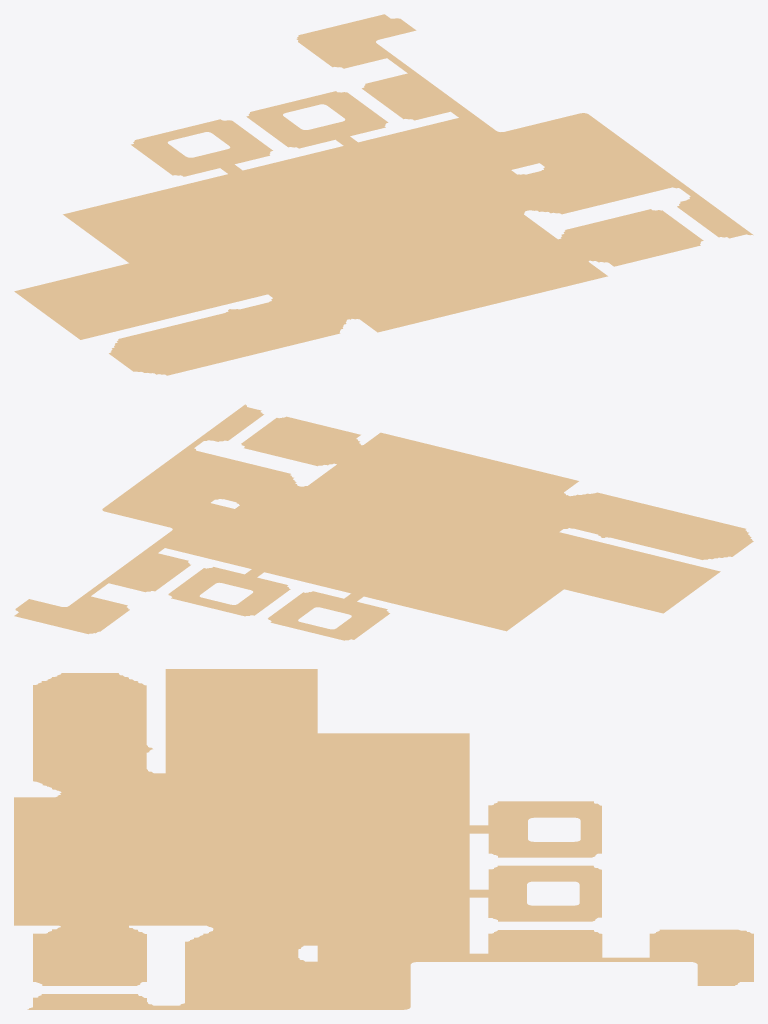
The model's file is Collada FBX Land.fbx.
3 renders of one model, top to bottom at view 1: azimuth 30°, elevation 25°; view 2: azimuth 150°, elevation 25°; view 3: azimuth 270°, elevation 25°, orthographic. The views are drawn at different scales.
Parts seen in each view (by area): view 1: group_0; view 2: group_0; view 3: group_0.
Boxes of the visible parts, x1,y1,x2,y2 form: group_0: [14, 14, 753, 375]; group_0: [14, 404, 753, 640]; group_0: [14, 669, 753, 1009].
Size of the model in its own units: 8498 by 0.00127 by 7798.
